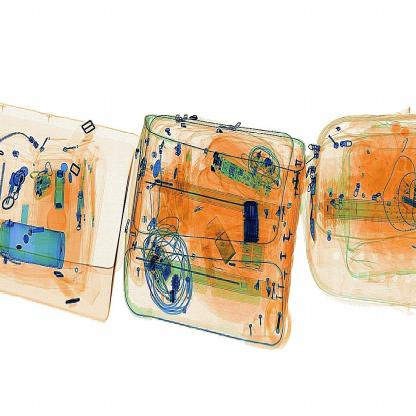scissors: (238, 192, 270, 248)
